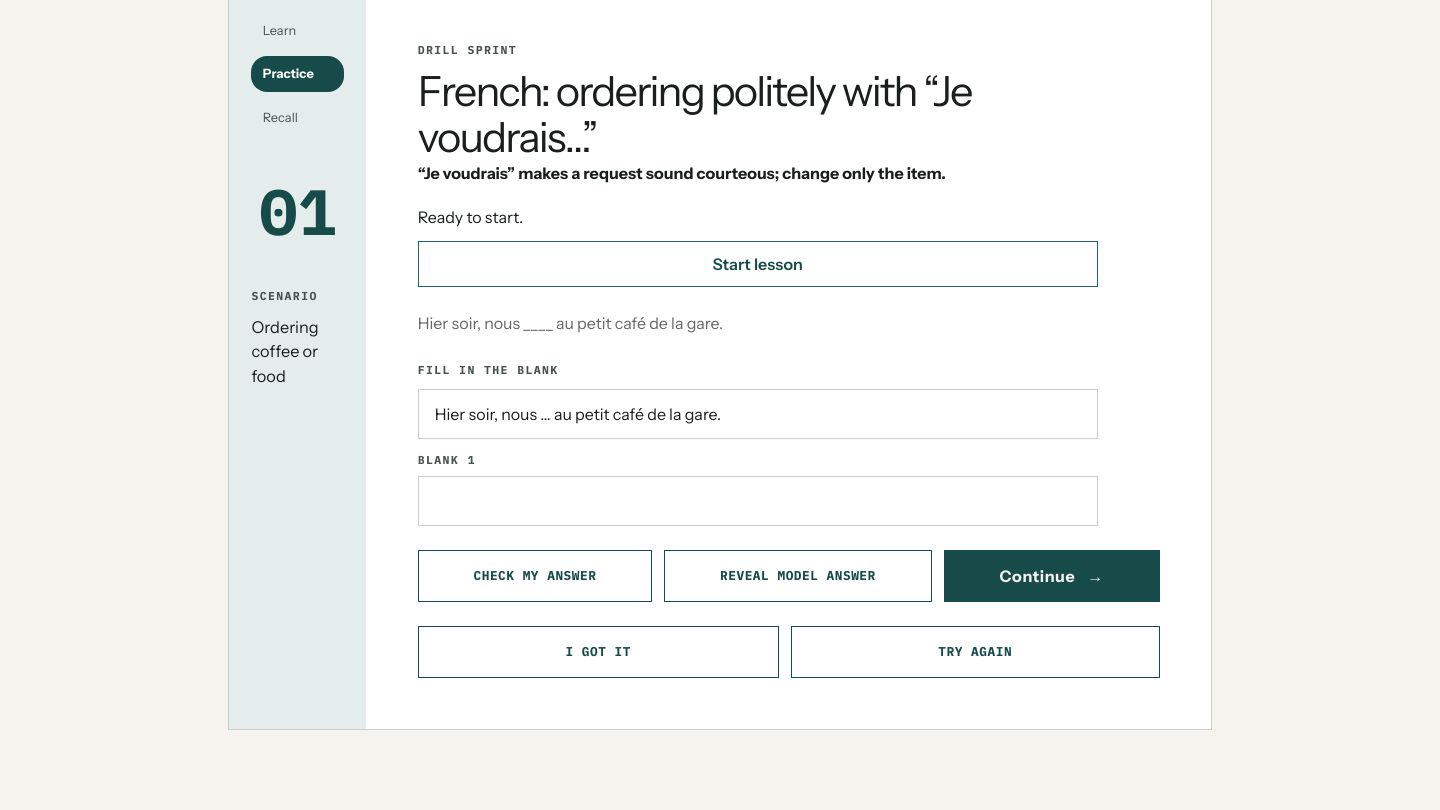
ClozeBuilder in GuidedSession › fills the blank, checks the assembled sentence, and earns an exact verdict
This screenshot has width=1440, height=810.
(page scrolled)
Expected: the button "Check my answer" is disabled, [418, 550, 652, 602]
Type "avons mangé" into the field labelled "Blank 1".
click(758, 501); type("avons mangé")  # box [418, 476, 1098, 526]
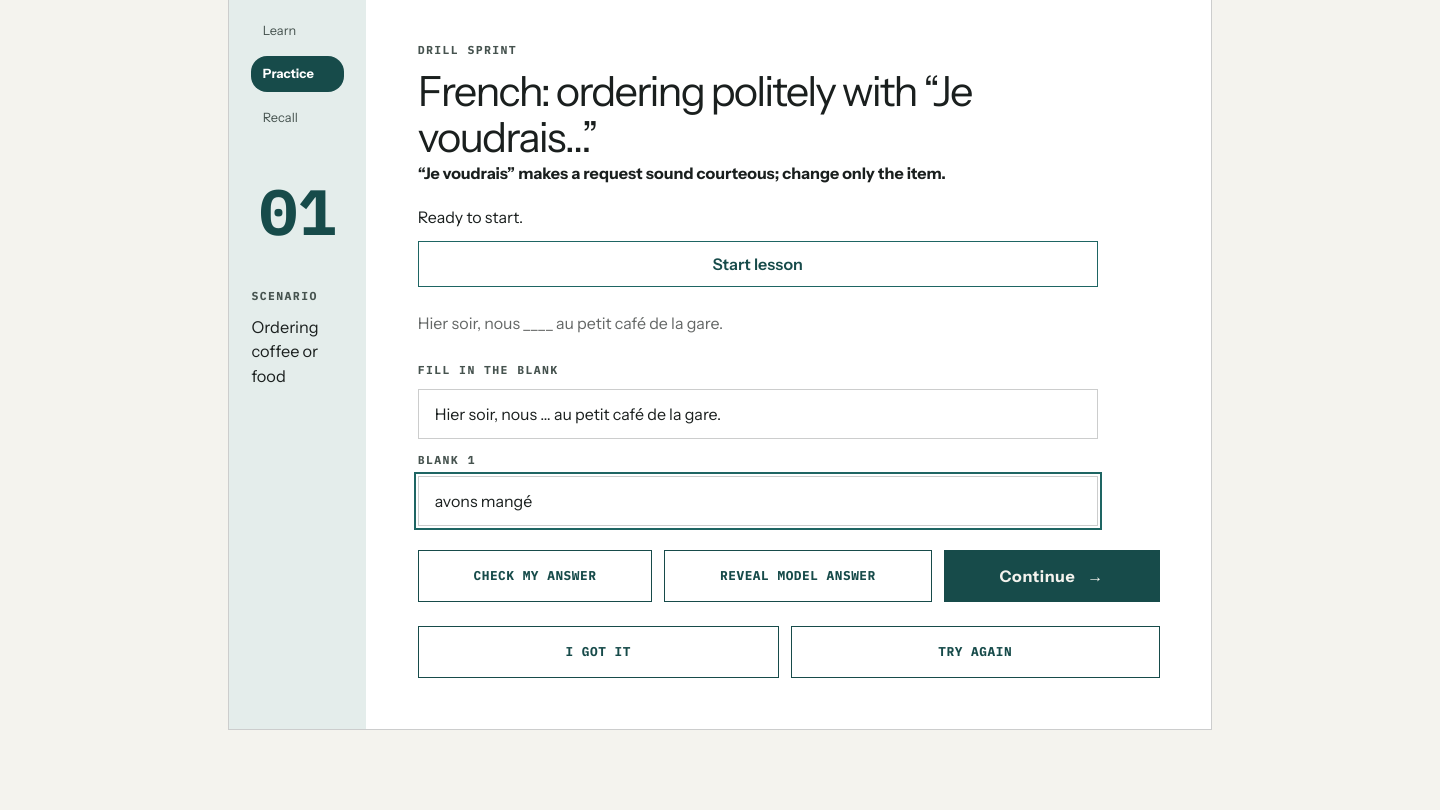
Click the button "Check my answer".
click(535, 576)  # box [418, 550, 652, 602]
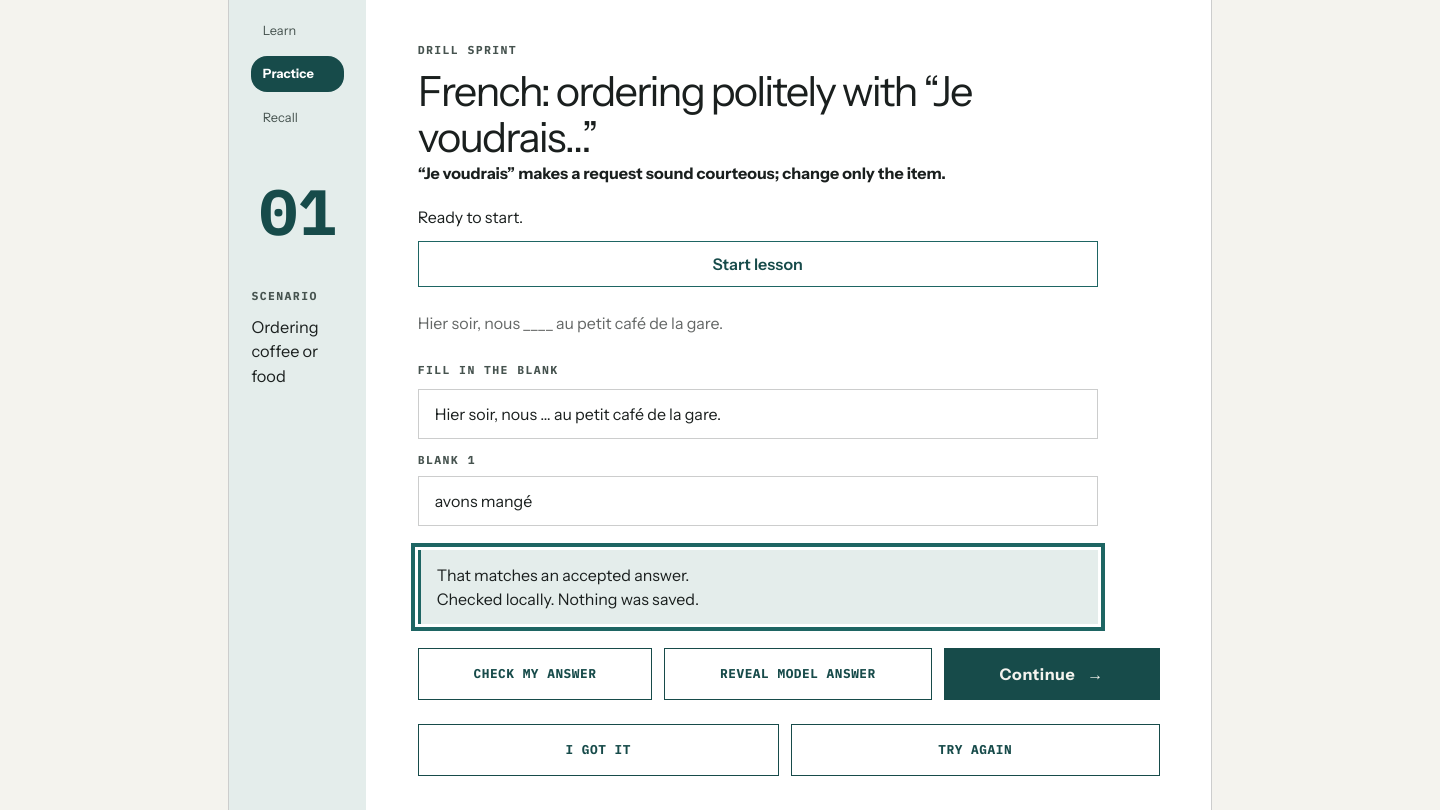
Result: the text "That matches an accepted answer." is shown at [437, 565, 690, 585]
